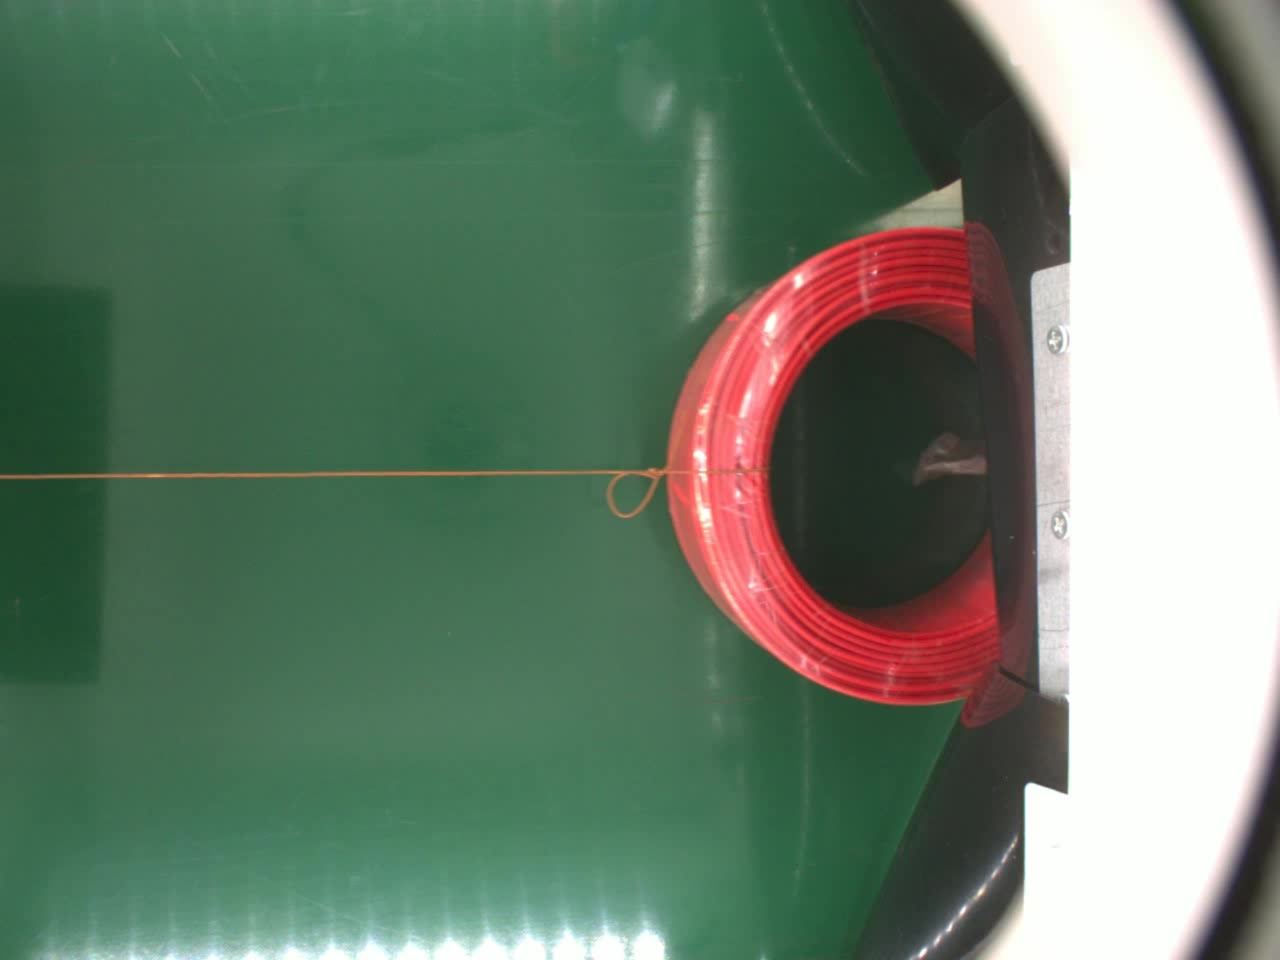red: (661, 225, 999, 710)
